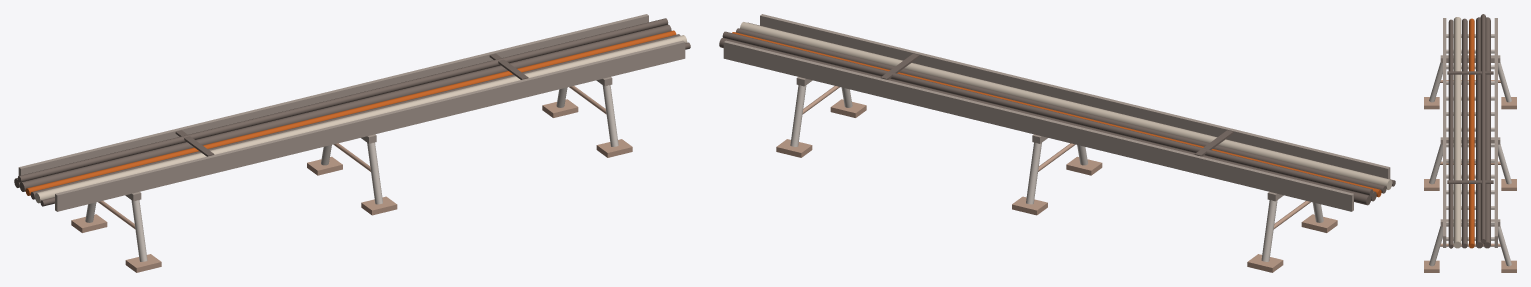
Rendered from D10_cable_tray_4m.glb.
The picture shows the model from 3 angles, left to right: view 1: azimuth 30°, elevation 25°; view 2: azimuth 150°, elevation 25°; view 3: azimuth 270°, elevation 25°; orthographic projection. The views are drawn at different scales.
Parts seen in each view (by area): view 1: tray_side, cable, stand_foot, tray_rung; view 2: tray_side, cable, stand_foot, tray_rung; view 3: cable, tray_rung, tray_side, stand_foot.
Boxes of the visible parts, x1,y1,x2,y2 form: tray_side: (18, 14, 685, 211); cable: (14, 18, 690, 206); stand_foot: (71, 86, 632, 272); tray_rung: (85, 85, 618, 261); tray_side: (723, 14, 1390, 211); cable: (719, 22, 1395, 205); stand_foot: (776, 86, 1337, 272); tray_rung: (790, 85, 1323, 261); cable: (1447, 14, 1493, 248); tray_rung: (1429, 34, 1511, 266); tray_side: (1440, 18, 1500, 247); stand_foot: (1424, 80, 1516, 272).
Size of the model in its own units: 4.12 by 0.515 by 0.7198.
